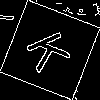K: (25, 25, 81, 74)
